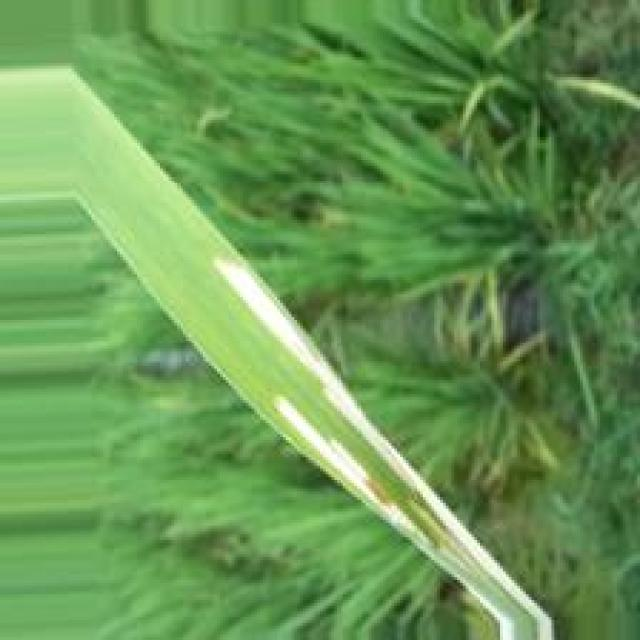Rice_Hispa: (216, 256, 556, 640)
